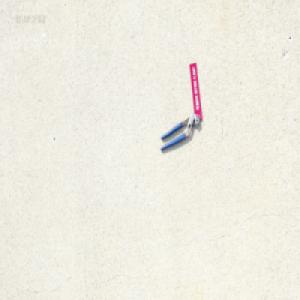Label: (188, 61, 202, 120)
Pliers: (158, 112, 199, 151)
